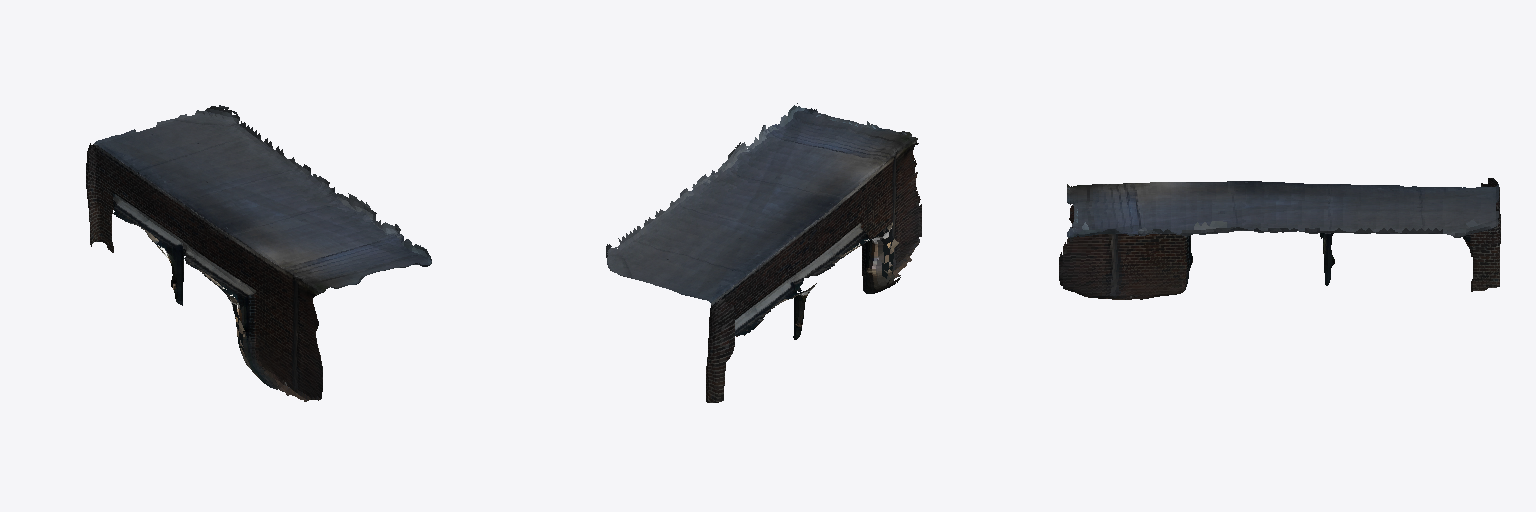
3 renders of one model, left to right at view 1: azimuth 30°, elevation 25°; view 2: azimuth 150°, elevation 25°; view 3: azimuth 270°, elevation 25°, orthographic.
Bounding box in the file's own units: 3.5 × 3.07 × 9.07.
1 materials, 1 textured.